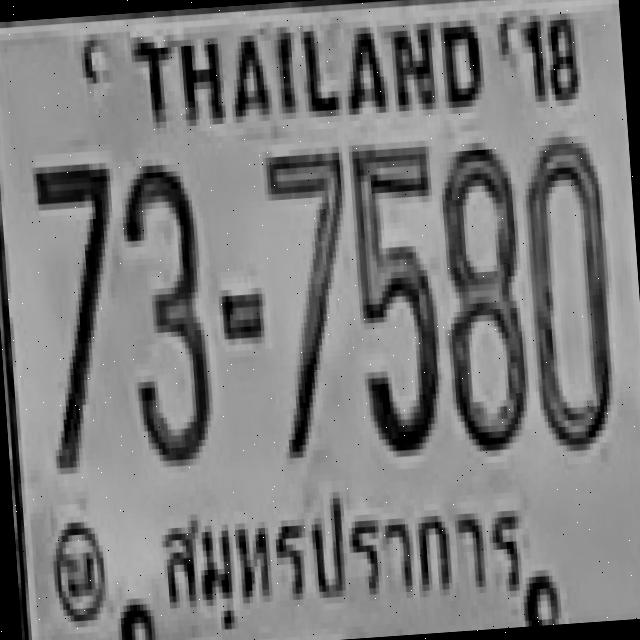0: (518, 128, 620, 452)
3: (115, 156, 212, 462)
5: (346, 134, 448, 452)
7: (260, 140, 360, 452), (28, 154, 126, 466)
8: (433, 134, 531, 452)
SamutPrakan: (145, 474, 530, 626)
